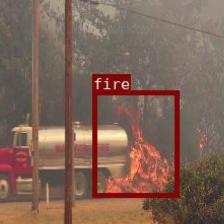fire: (91, 90, 178, 196)
